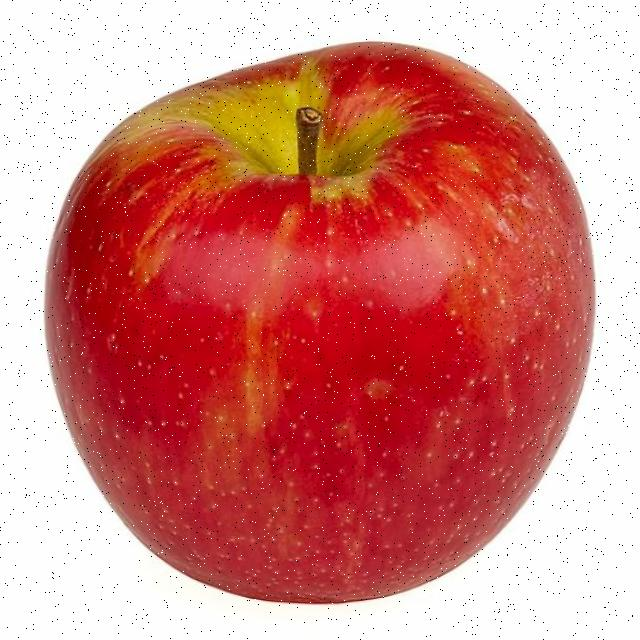HEALTHY: (22, 21, 604, 614)
